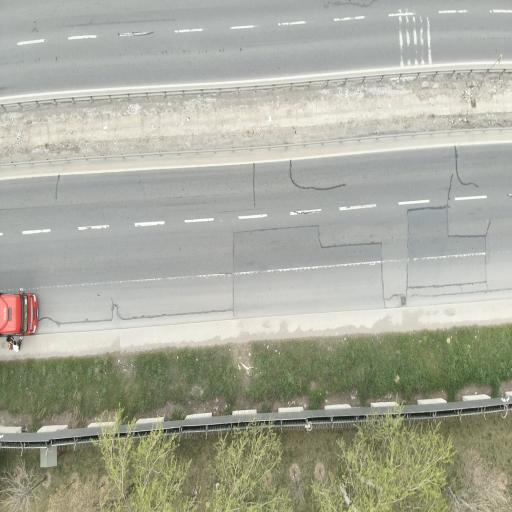person: (12, 338, 22, 356)
truck: (0, 290, 38, 336)
